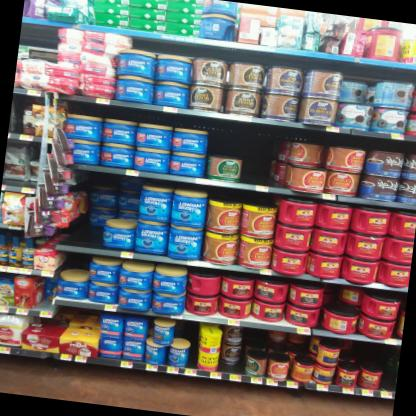empty_space: (243, 122, 294, 189)
